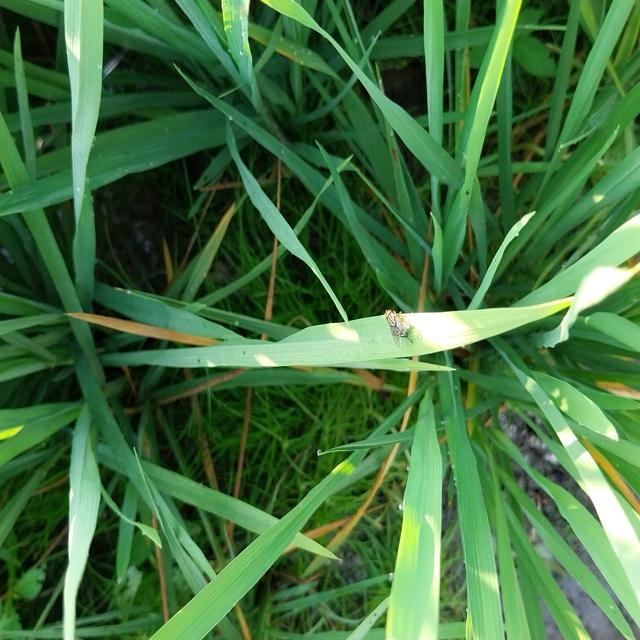Leaf scald: (382, 304, 419, 344)
